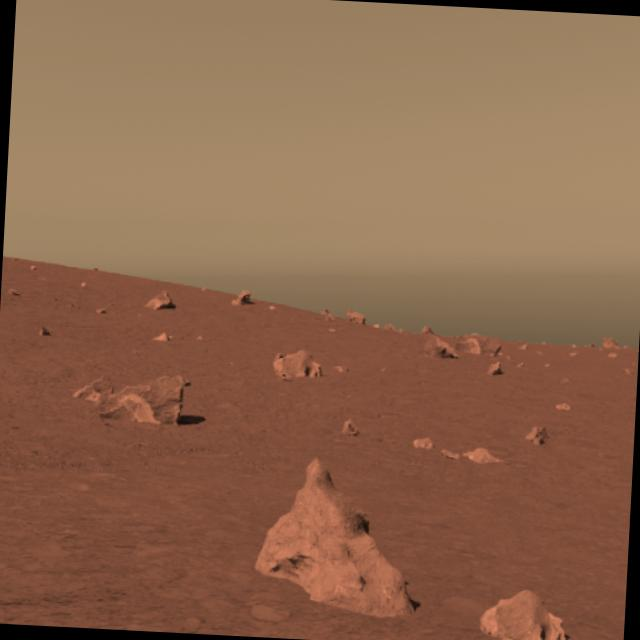rock: (252, 450, 428, 624), (91, 363, 195, 432), (473, 584, 573, 640)
